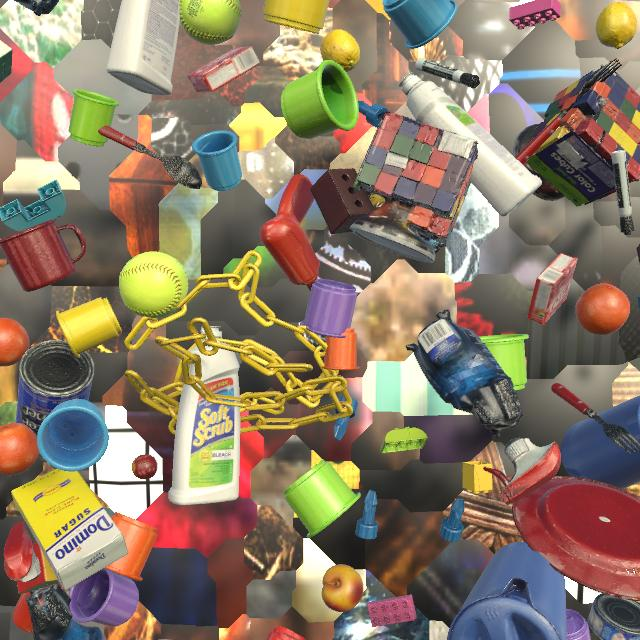ycb_002_master_chef_can: (15, 340, 95, 436), (159, 639, 170, 640)
ycb_004_sugar_box: (11, 469, 128, 590)
ycb_007_tuna_fish_can: (588, 593, 640, 640)
ycb_009_gelatin_box: (527, 253, 578, 325), (188, 46, 260, 92)
ycb_014_lemon: (596, 2, 637, 49), (320, 29, 360, 73)
ycb_015_peach: (322, 564, 364, 612)
ycb_017_orange: (575, 283, 630, 335), (0, 423, 39, 475), (0, 318, 30, 367)
